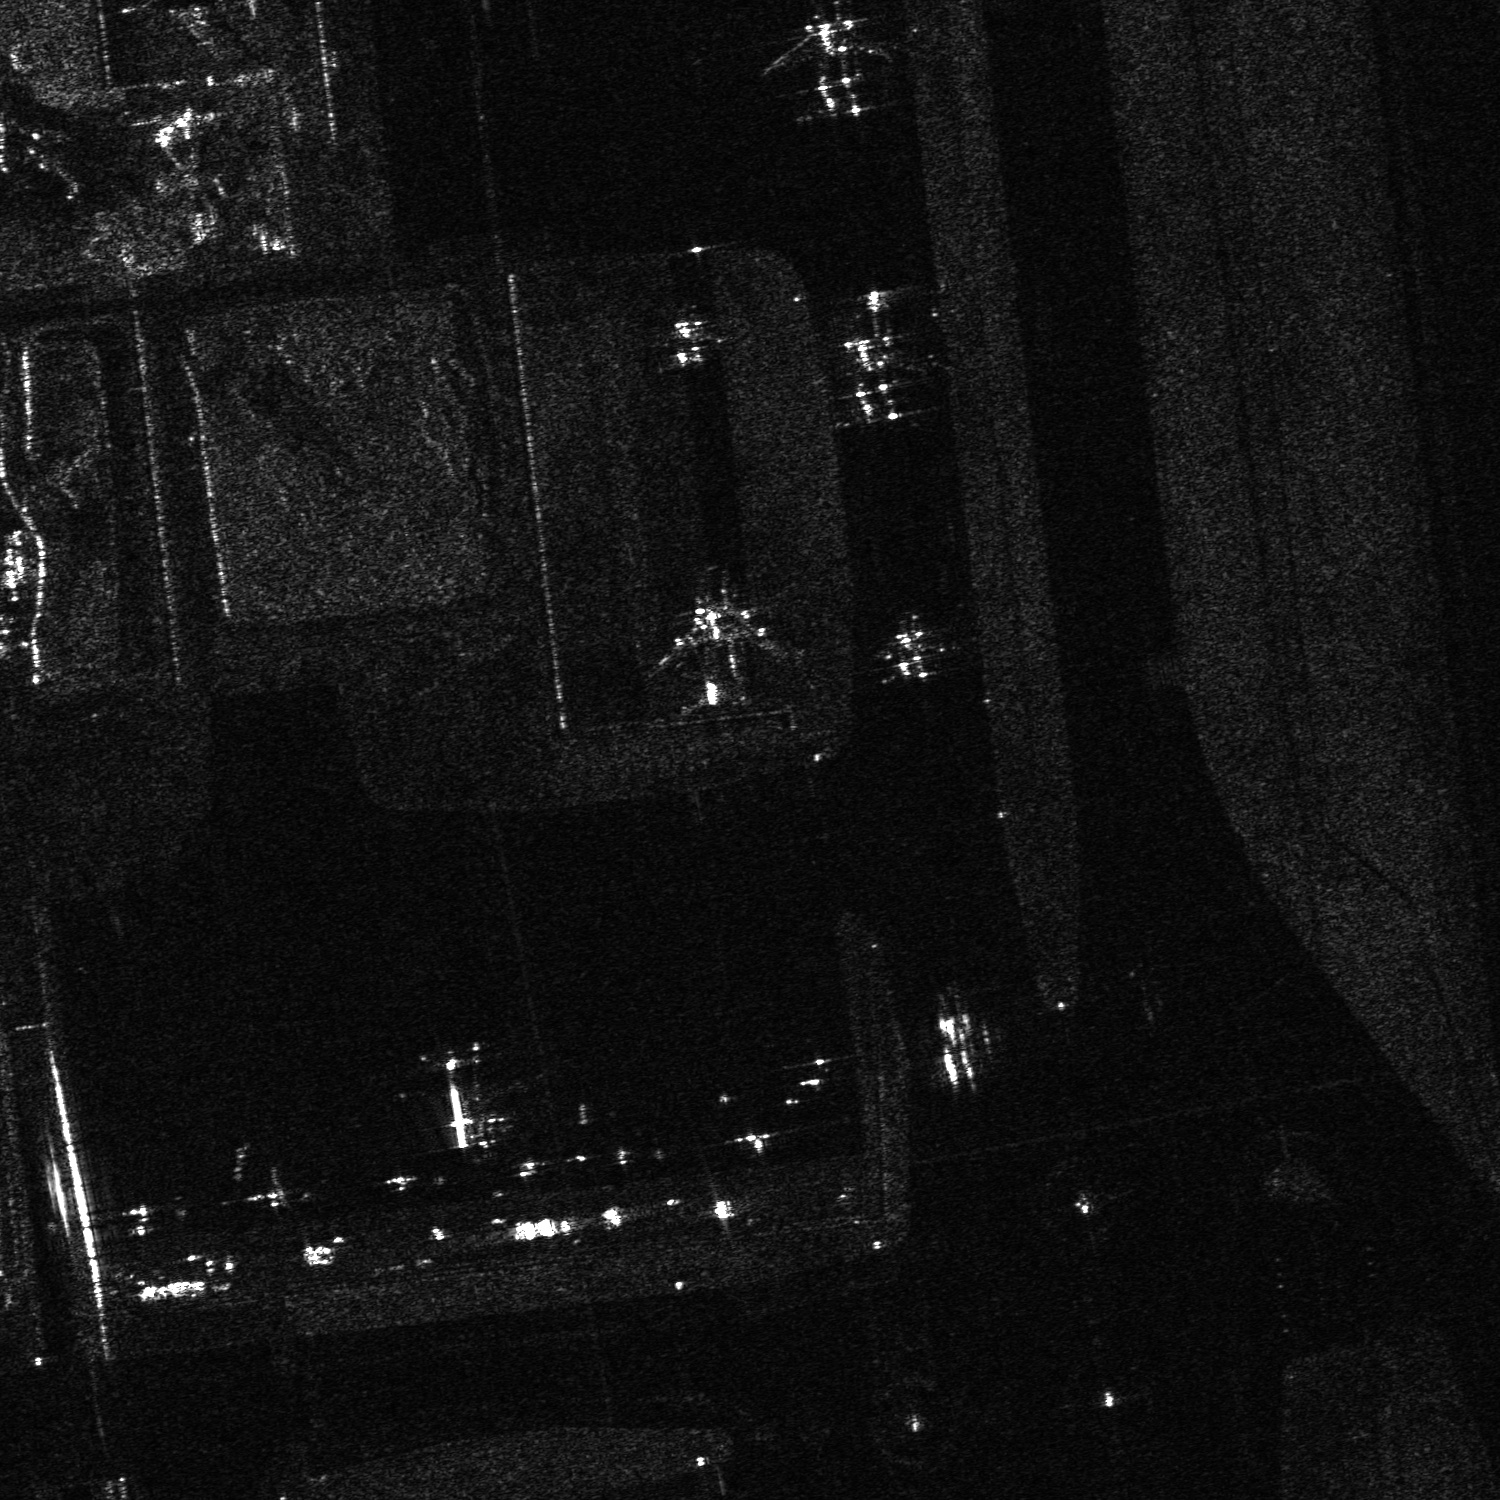A220: (650, 305, 729, 374)
A330: (859, 613, 962, 696)
Boeing787: (393, 1032, 527, 1148)
other: (635, 582, 793, 716), (808, 286, 942, 431), (761, 3, 901, 124)
